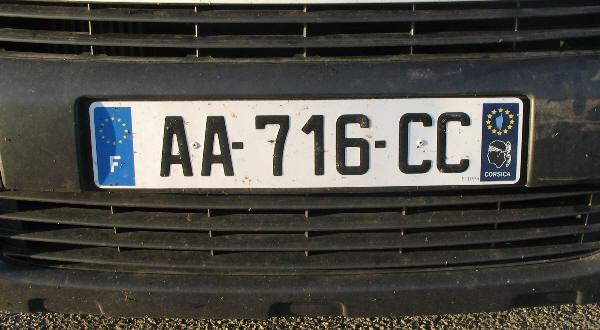license_plate: (89, 100, 522, 184)
